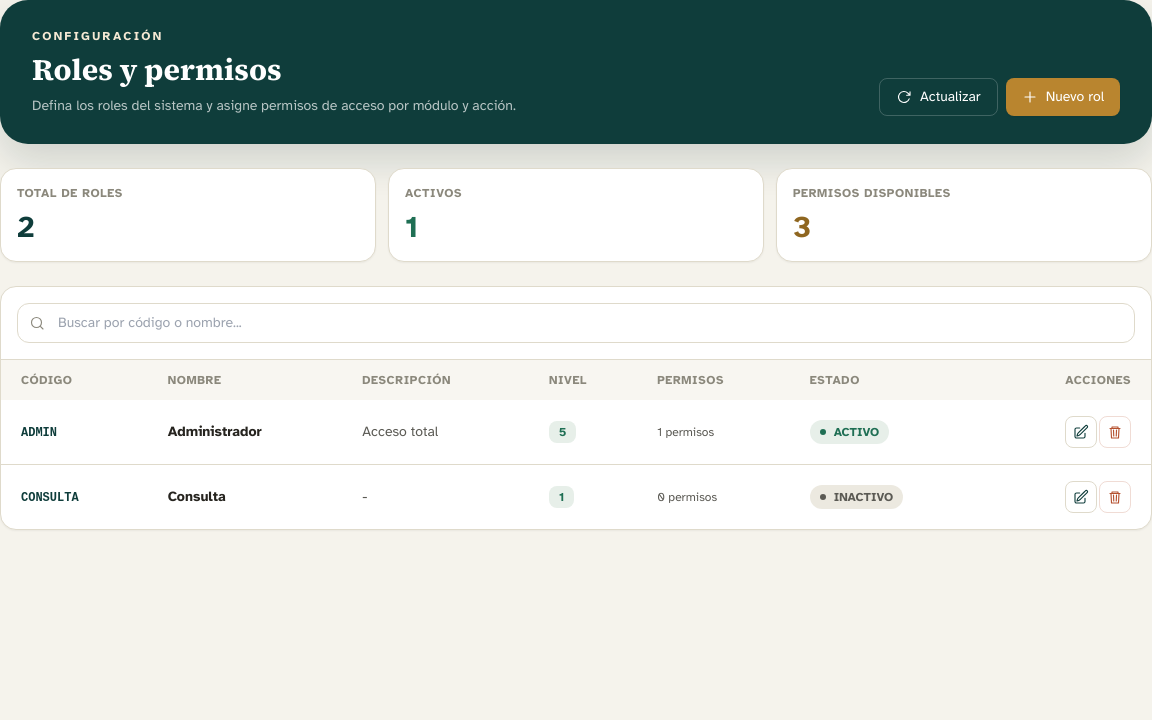
RolesPage › edita un rol con el código bloqueado
Expected: the text "Administrador" is shown, x1=168 y1=423 x2=262 y2=440
Click the button named "Editar" in the row of "Administrador": (1081, 432) x1=1065 y1=416 x2=1097 y2=448
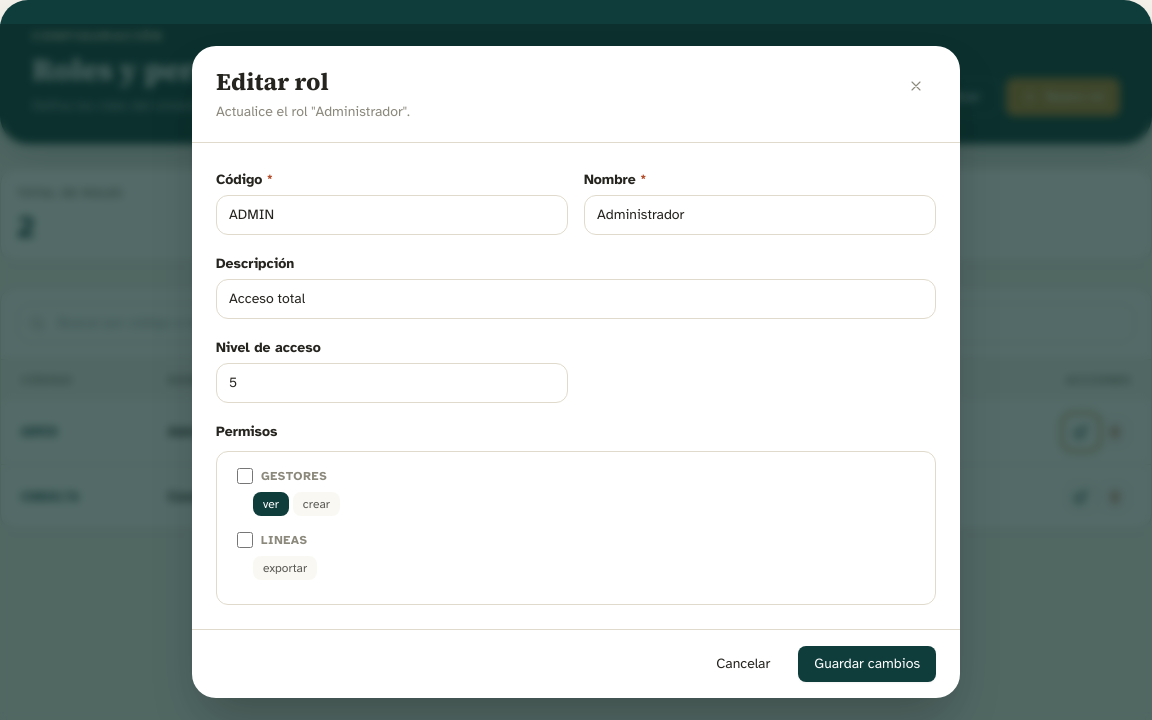
Expected: the text "Actualice el rol \"Administrador\"." is shown, x1=216 y1=102 x2=410 y2=122
Expected: the 1st field is disabled, x1=216 y1=195 x2=568 y2=235
Expected: the 1st field holds "ADMIN", x1=216 y1=195 x2=568 y2=235
Replace the text in the 2nd field with "Administrador General": (760, 215) x1=584 y1=195 x2=936 y2=235
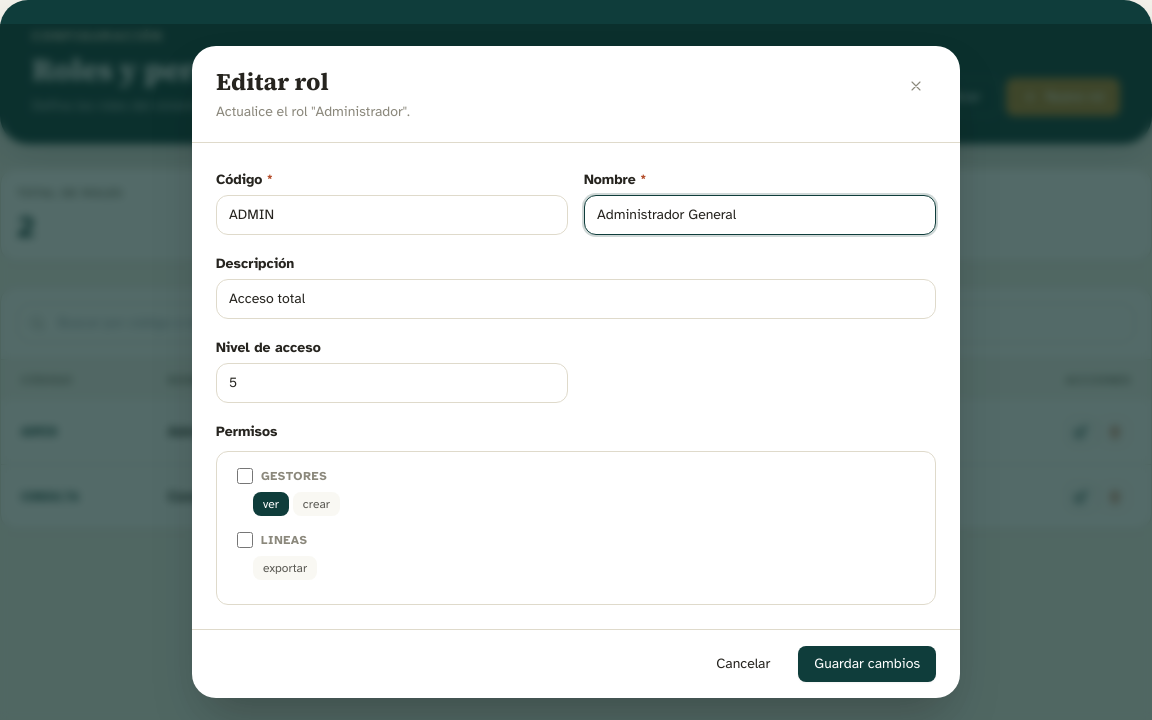
Replace the text in the number field with "4": (392, 383) x1=216 y1=363 x2=568 y2=403
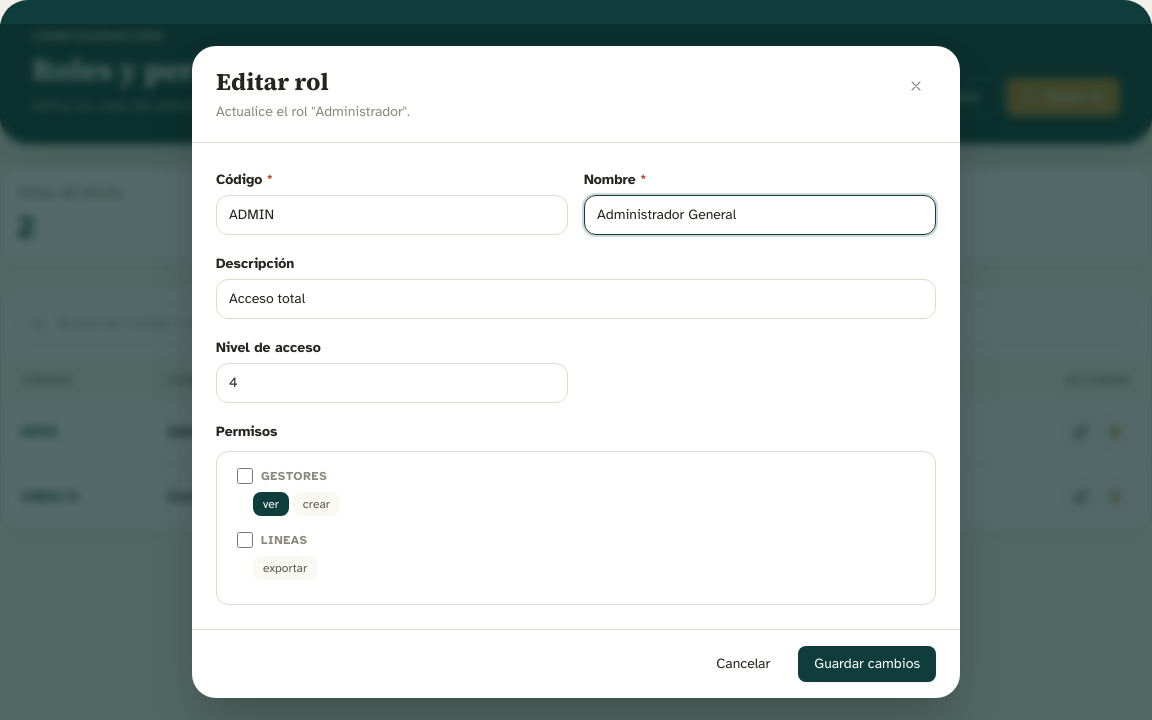
Click the button "Guardar cambios": (867, 664) x1=798 y1=646 x2=936 y2=682
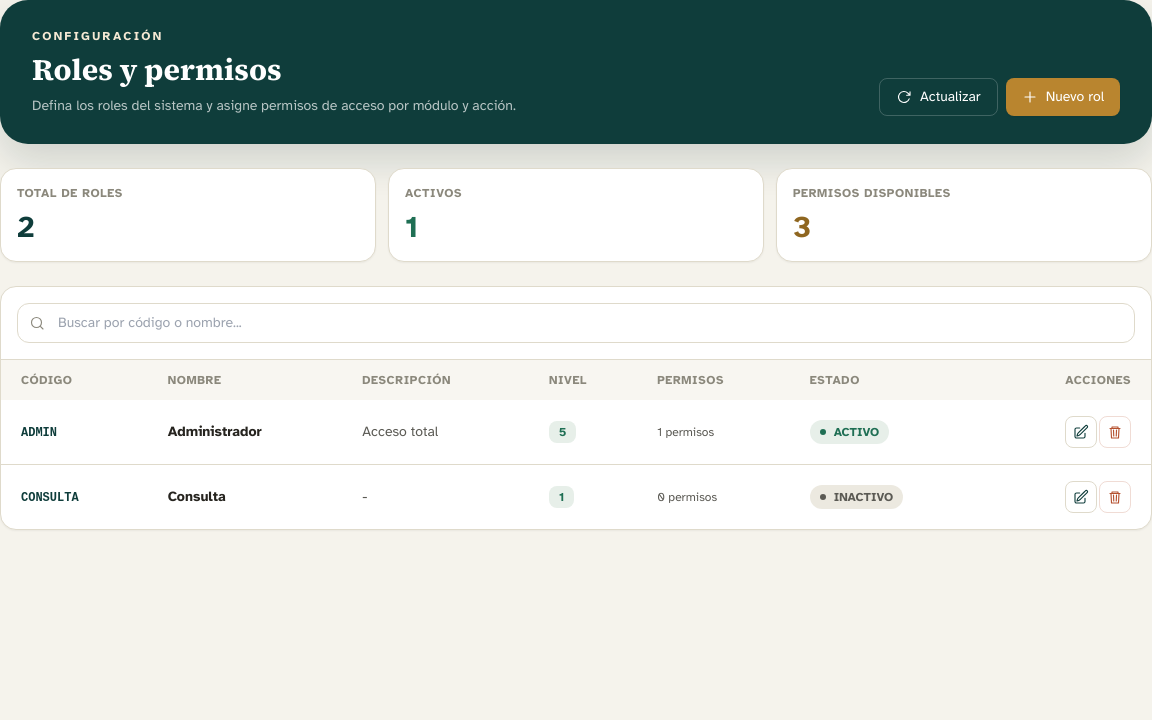
Expected: the dialog is gone
